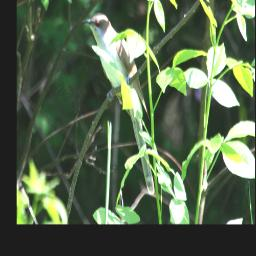Cuckoo: (81, 13, 155, 194)
